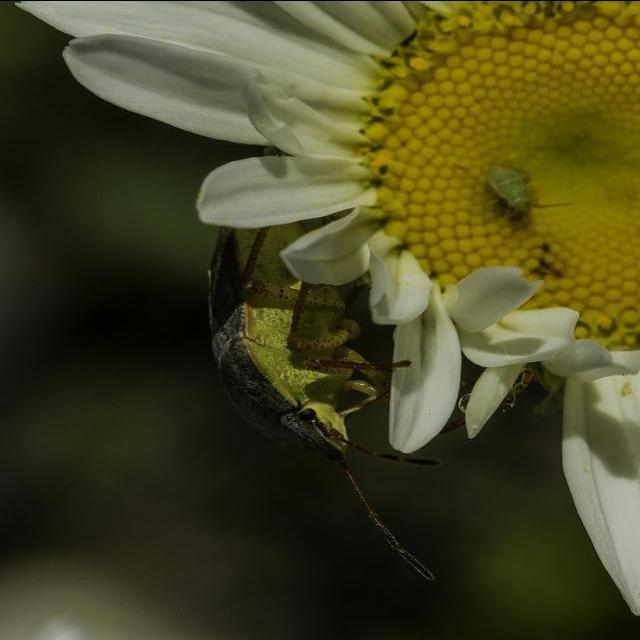aphid: (194, 234, 380, 494)
